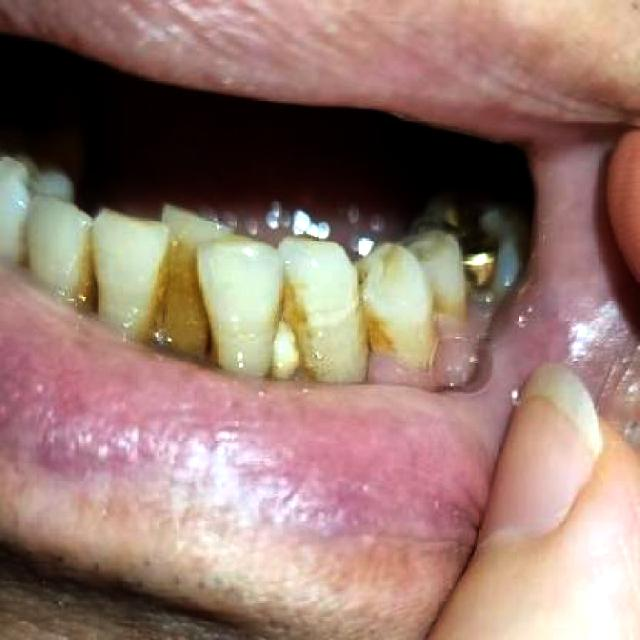Plaque: (364, 289, 497, 386)
